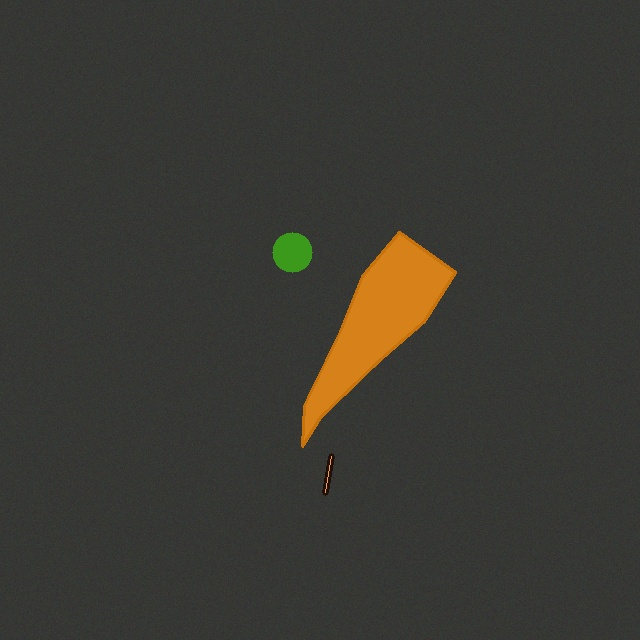Damaged_Carrot: (294, 224, 463, 454)
